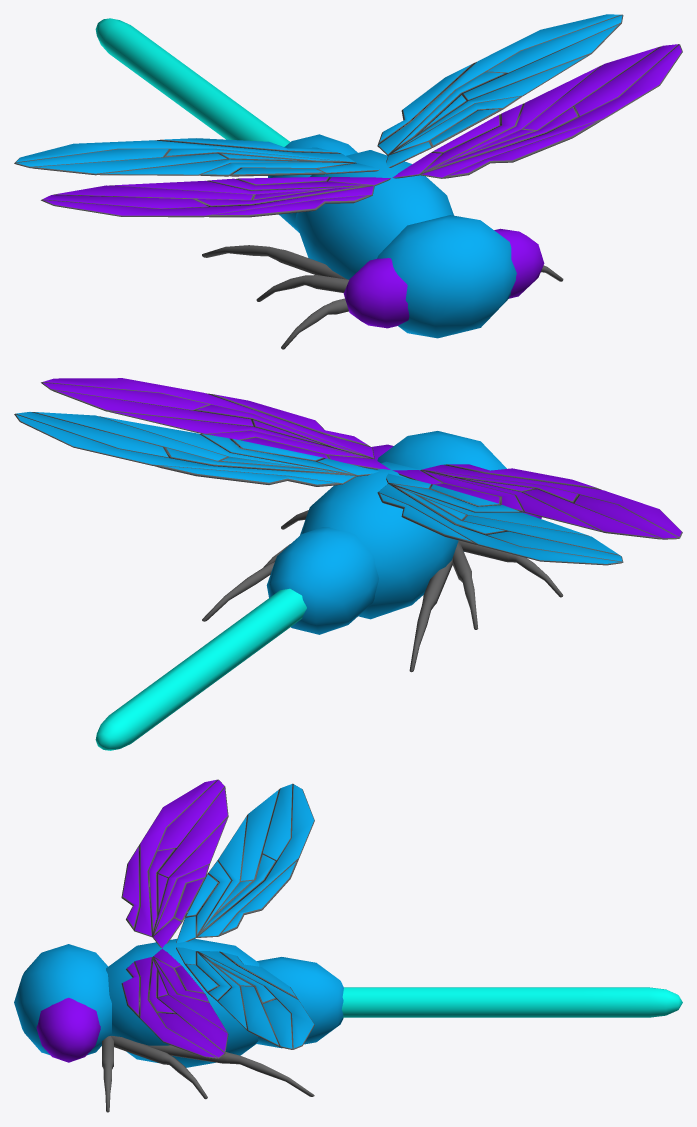
Rendered from 1W4laTqRGyC.glb.
3 views of the same model, one above another, from view 1: azimuth 30°, elevation 25°; view 2: azimuth 150°, elevation 25°; view 3: azimuth 270°, elevation 25° (orthographic). The views are drawn at different scales.
Visible parts, largest first — view 1: Symmetry.1; view 2: Symmetry.1; view 3: Symmetry.1.
Boxes of the visible parts, x1,y1,x2,y2 form: Symmetry.1: [14, 14, 682, 349]; Symmetry.1: [14, 378, 682, 750]; Symmetry.1: [14, 779, 682, 1112].
Bounding box in the file's own units: 4.11 × 1 × 4.16.
